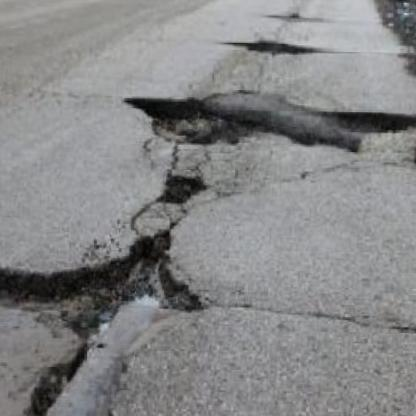pothole: (0, 222, 211, 416), (120, 90, 242, 150), (321, 101, 416, 136), (153, 169, 208, 206), (228, 36, 315, 55)
